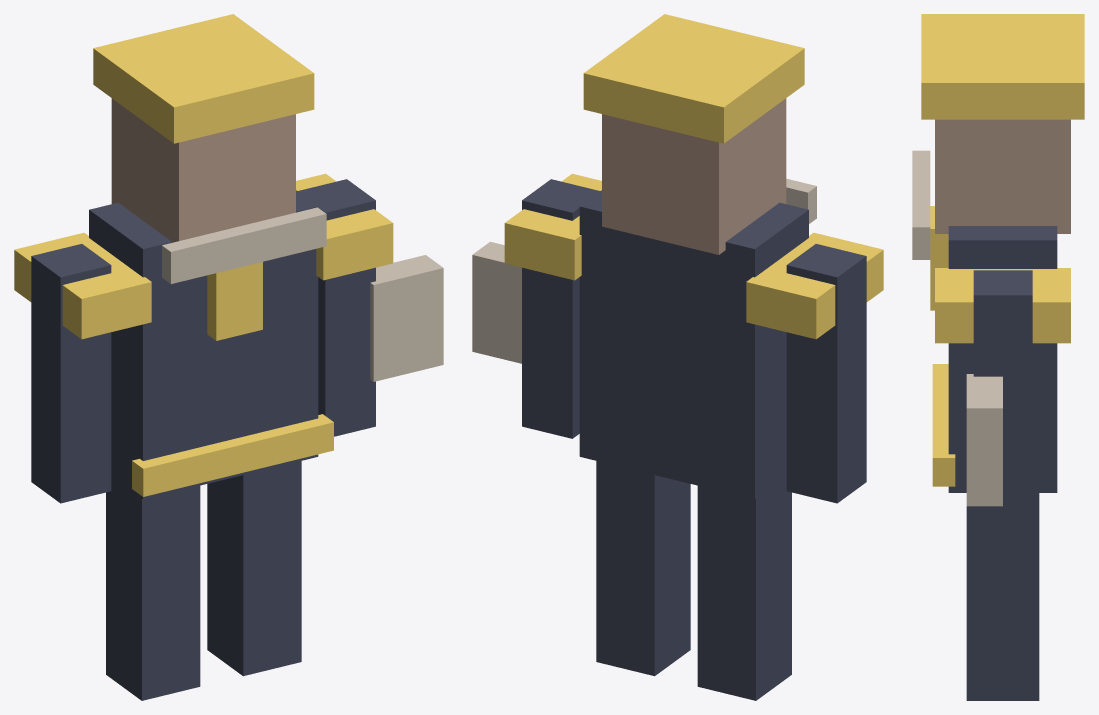
The model's file is 16_eryk_starfall_runner_at_ration.glb.
3 views of the same model, side by side, from view 1: azimuth 30°, elevation 25°; view 2: azimuth 150°, elevation 25°; view 3: azimuth 270°, elevation 25° (orthographic).
Visible parts, largest first — view 1: Eryk Starfall, Runner at Ration; view 2: Eryk Starfall, Runner at Ration; view 3: Eryk Starfall, Runner at Ration.
Part boxes in pixels (left/top/right/bottom): Eryk Starfall, Runner at Ration: left=14, top=14, right=443, bottom=700; Eryk Starfall, Runner at Ration: left=472, top=14, right=883, bottom=700; Eryk Starfall, Runner at Ration: left=912, top=14, right=1084, bottom=700.
Size of the model in its own units: 1.04 by 1.59 by 0.4054.
